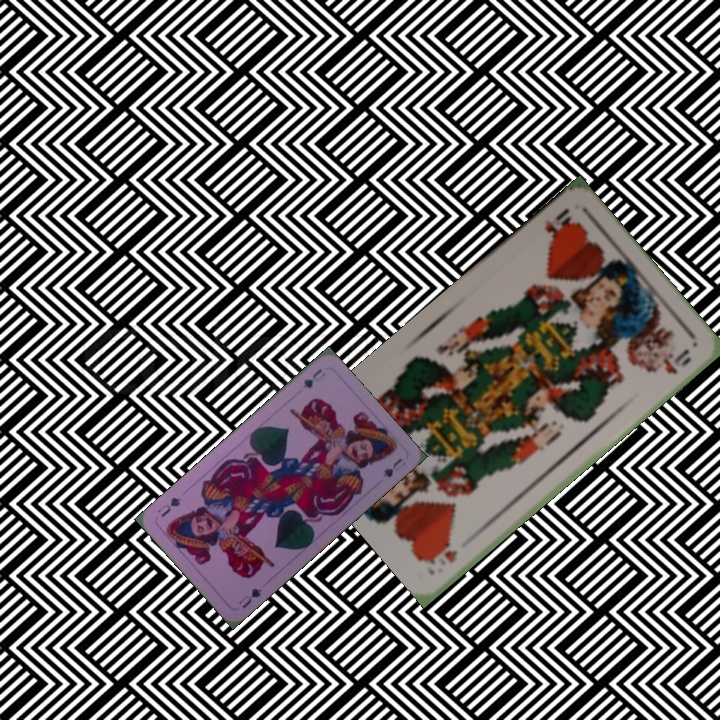GU: (234, 584, 264, 611), (299, 364, 328, 391)
HO: (540, 204, 578, 246), (425, 540, 460, 568)
